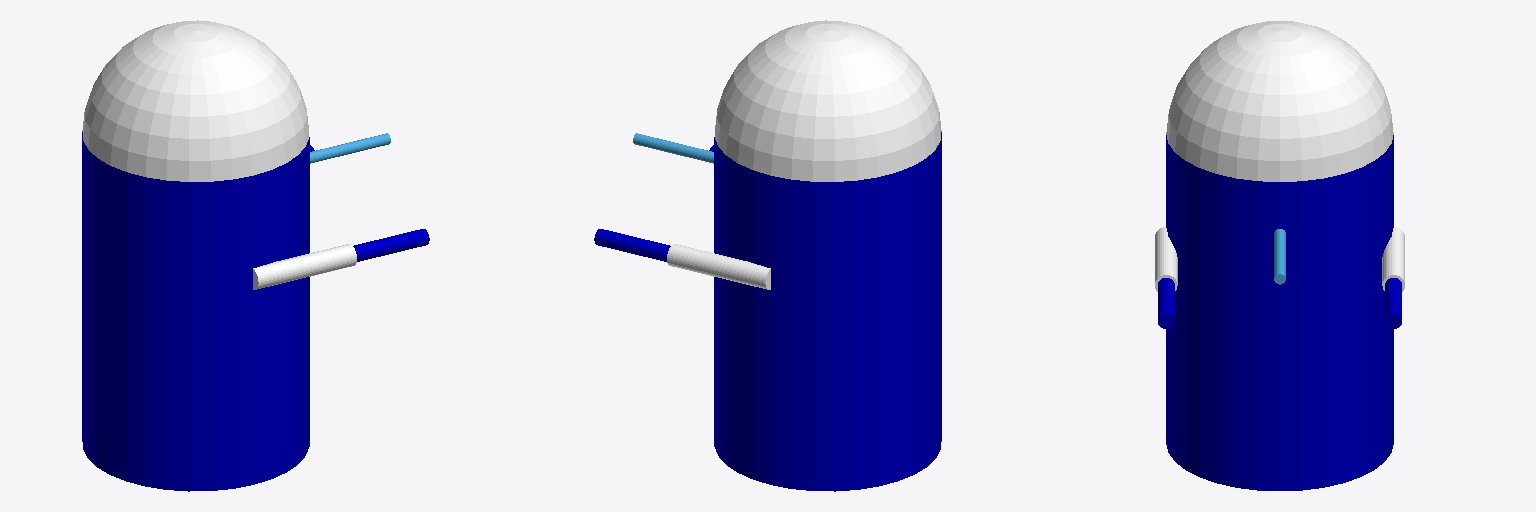
URDF robot description (multi_arm_robot):
<?xml version="1.0"?>
<robot name="multi_arm_robot">

  <!-- 재질 정의 -->
  <material name="blue"><color rgba="0 0 0.8 1"/></material>
  <material name="black"><color rgba="0 0 0 1"/></material>
  <material name="white"><color rgba="1 1 1 1"/></material>

  <!-- 몸체 (Base) -->
  <link name="base_link">
    <visual>
      <geometry><cylinder length="0.6" radius="0.2"/></geometry>
      <material name="blue"/>
    </visual>
    <collision>
      <geometry><cylinder length="0.6" radius="0.2"/></geometry>
    </collision>
    <inertial>
      <mass value="10"/>
      <inertia ixx="1e-3" ixy="0.0" ixz="0.0" iyy="1e-3" iyz="0.0" izz="1e-3" />
    </inertial>
  </link>

  <!-- [기존 부분] 다리 및 바퀴 (오른쪽/왼쪽 생략 없이 유지) -->
  <!-- ... 다리 코드 생략 (기존과 동일하므로 공간상 핵심 위주로 작성) ... -->
  <!-- (실제 파일에는 기존의 right_leg, right_base, wheels 등이 그대로 들어있어야 합니다) -->

  <!-- ================= [복구된 중앙 그립퍼] ================= -->
  <joint name="gripper_extension" type="prismatic">
    <parent link="base_link"/>
    <child link="gripper_pole"/>
    <limit effort="1000" lower="-0.38" upper="0" velocity="0.5"/>
    <origin rpy="0 0 0" xyz="0.19 0 0.2"/>
  </joint>

  <link name="gripper_pole">
    <visual>
      <geometry><cylinder length="0.2" radius="0.01"/></geometry>
      <origin rpy="0 1.57075 0 " xyz="0.1 0 0"/>
    </visual>
    <inertial>
      <mass value="0.05"/>
      <inertia ixx="1e-3" ixy="0.0" ixz="0.0" iyy="1e-3" iyz="0.0" izz="1e-3" />
    </inertial>
  </link>

  <!-- 중앙 왼쪽 집게 -->
  <joint name="left_gripper_joint" type="revolute">
    <axis xyz="0 0 1"/>
    <origin rpy="0 0 0" xyz="0.2 0.01 0"/>
    <limit effort="1000.0" lower="0.0" upper="0.548" velocity="0.5"/>
    <parent link="gripper_pole"/>
    <child link="left_gripper"/>
  </joint>
  <link name="left_gripper">
    <visual>
      <origin rpy="0.0 0 0" xyz="0 0 0"/>
      <geometry><mesh filename="package://tf2_basic/meshes/l_finger.dae"/></geometry>
    </visual>
  </link>

  <!-- 중앙 오른쪽 집게 -->
  <joint name="right_gripper_joint" type="revolute">
    <axis xyz="0 0 -1"/>
    <origin rpy="0 0 0" xyz="0.2 -0.01 0"/>
    <limit effort="1000.0" lower="0.0" upper="0.548" velocity="0.5"/>
    <parent link="gripper_pole"/>
    <child link="right_gripper"/>
  </joint>
  <link name="right_gripper">
    <visual>
      <origin rpy="-3.1415 0 0" xyz="0 0 0"/>
      <geometry><mesh filename="package://tf2_basic/meshes/l_finger.dae"/></geometry>
    </visual>
  </link>

  <!-- ================= [새로 추가된 양쪽 2마디 팔] ================= -->

  <!-- 1. 왼팔 (Left New Arm) -->
  <!-- 어깨 관절 -->
  <joint name="left_arm_shoulder_joint" type="revolute">
    <parent link="base_link"/>
    <child link="left_arm_upper"/>
    <origin xyz="0 0.2 0.1" rpy="0 0 0"/>
    <axis xyz="0 1 0"/>
    <limit effort="1000" lower="-1.57" upper="1.57" velocity="0.5"/>
  </joint>

  <link name="left_arm_upper">
    <visual>
      <geometry><cylinder length="0.2" radius="0.02"/></geometry>
      <origin rpy="0 1.57075 0" xyz="0.1 0 0"/>
      <material name="white"/>
    </visual>
  </link>

  <!-- 팔꿈치 관절 -->
  <joint name="left_arm_elbow_joint" type="revolute">
    <parent link="left_arm_upper"/>
    <child link="left_arm_forearm"/>
    <origin xyz="0.2 0 0" rpy="0 0 0"/>
    <axis xyz="0 1 0"/>
    <limit effort="1000" lower="-1.57" upper="1.57" velocity="0.5"/>
  </joint>

  <link name="left_arm_forearm">
    <visual>
      <geometry><cylinder length="0.15" radius="0.015"/></geometry>
      <origin rpy="0 1.57075 0" xyz="0.075 0 0"/>
      <material name="blue"/>
    </visual>
  </link>

  <!-- 2. 오른팔 (Right New Arm) -->
  <!-- 어깨 관절 -->
  <joint name="right_arm_shoulder_joint" type="revolute">
    <parent link="base_link"/>
    <child link="right_arm_upper"/>
    <origin xyz="0 -0.2 0.1" rpy="0 0 0"/>
    <axis xyz="0 1 0"/>
    <limit effort="1000" lower="-1.57" upper="1.57" velocity="0.5"/>
  </joint>

  <link name="right_arm_upper">
    <visual>
      <geometry><cylinder length="0.2" radius="0.02"/></geometry>
      <origin rpy="0 1.57075 0" xyz="0.1 0 0"/>
      <material name="white"/>
    </visual>
  </link>

  <!-- 팔꿈치 관절 -->
  <joint name="right_arm_elbow_joint" type="revolute">
    <parent link="right_arm_upper"/>
    <child link="right_arm_forearm"/>
    <origin xyz="0.2 0 0" rpy="0 0 0"/>
    <axis xyz="0 1 0"/>
    <limit effort="1000" lower="-1.57" upper="1.57" velocity="0.5"/>
  </joint>

  <link name="right_arm_forearm">
    <visual>
      <geometry><cylinder length="0.15" radius="0.015"/></geometry>
      <origin rpy="0 1.57075 0" xyz="0.075 0 0"/>
      <material name="blue"/>
    </visual>
  </link>

  <!-- [기존 부분] 머리 및 박스 -->
  <link name="head">
    <visual>
      <geometry><sphere radius="0.2"/></geometry>
      <material name="white"/>
    </visual>
  </link>
  <joint name="head_swivel" type="continuous">
    <parent link="base_link"/><child link="head"/><axis xyz="0 0 1"/><origin xyz="0 0 0.3"/>
  </joint>

</robot>

--- Facts derived from the render (not from the file) ---
Views: 3 orthographic renders of the robot side by side, from view 1: azimuth 30°, elevation 25°; view 2: azimuth 150°, elevation 25°; view 3: azimuth 270°, elevation 25°.
Robot: multi_arm_robot — 9 links, 8 joints (6 revolute, 1 continuous, 1 prismatic); root link base_link; default pose: all joints at 0.
Links seen in each view (by area): view 1: base_link, head, right_arm_upper, right_arm_forearm, gripper_pole; view 2: base_link, head, left_arm_upper, left_arm_forearm, gripper_pole; view 3: base_link, head, left_arm_upper, right_arm_upper, left_arm_forearm, right_arm_forearm, gripper_pole.
Boxes of the visible links, box(x1,y1,x2,y2) form: base_link: box(82, 132, 309, 491); head: box(82, 20, 308, 181); right_arm_upper: box(253, 244, 356, 289); right_arm_forearm: box(353, 229, 429, 261); gripper_pole: box(310, 133, 390, 163); base_link: box(714, 132, 941, 491); head: box(715, 20, 941, 181); left_arm_upper: box(667, 244, 770, 289); left_arm_forearm: box(594, 229, 670, 261); gripper_pole: box(633, 133, 713, 163); base_link: box(1166, 135, 1393, 490); head: box(1166, 21, 1393, 181); left_arm_upper: box(1382, 227, 1404, 291); right_arm_upper: box(1155, 227, 1177, 291); left_arm_forearm: box(1385, 278, 1401, 328); right_arm_forearm: box(1158, 278, 1174, 328); gripper_pole: box(1274, 229, 1285, 284).
Size in the robot's own frame: 0.59 by 0.44 by 0.8 metres.
Meshes: 1 distinct files referenced, 0 mesh visuals loaded (none loaded); not drawn: 2 (reference not matched to a file when rendering).
